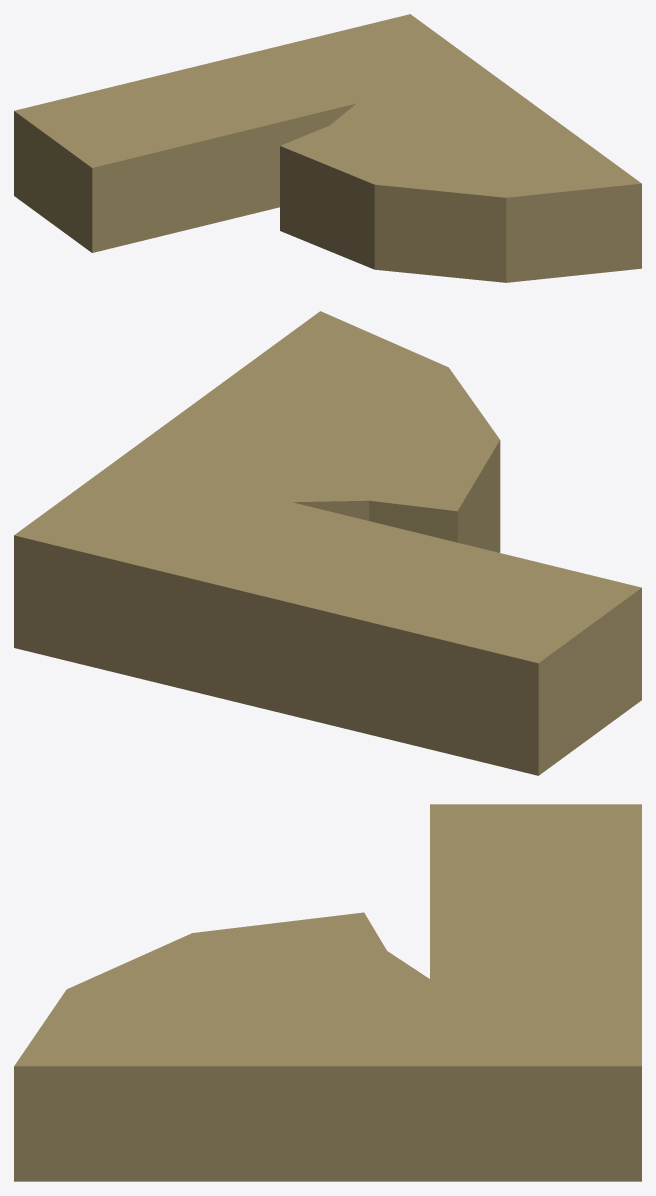
File: parte2_hacha.fbx
3 views of the same model, one above another, from view 1: azimuth 30°, elevation 25°; view 2: azimuth 150°, elevation 25°; view 3: azimuth 270°, elevation 25° (orthographic). The views are drawn at different scales.
Parts seen in each view (by area): view 1: Zona_3; view 2: Zona_3; view 3: Zona_3.
Boxes of the visible parts, <box> form: Zona_3: <box>14,14,641,282</box>; Zona_3: <box>14,311,641,775</box>; Zona_3: <box>14,804,641,1181</box>.
Bounding box in the file's own units: 32.97 × 6.76 × 33.36.
